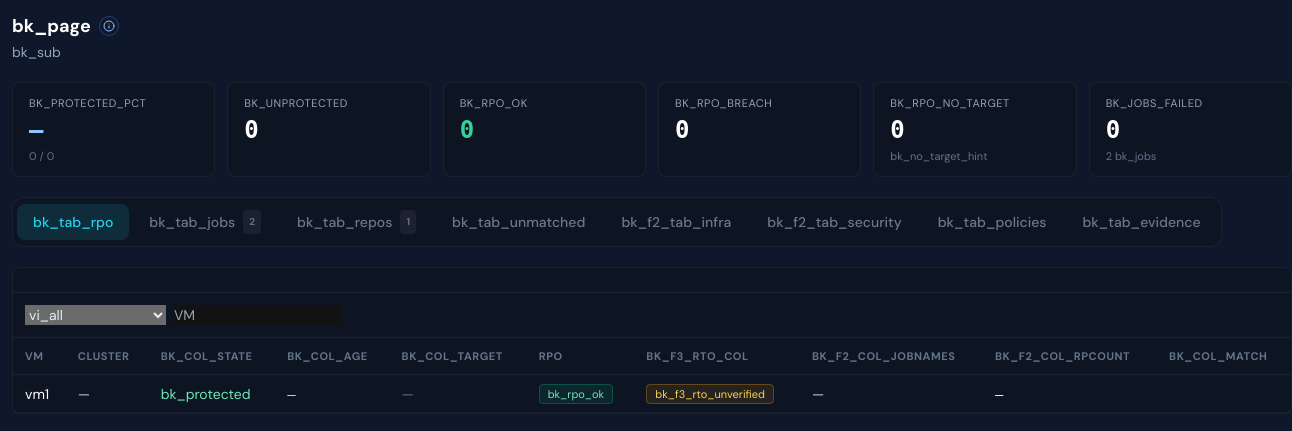
Test: F.2 Yedek sekmeleri › Repos tab: değişmezlik daima "ölçülemedi"
Click the button "bk_tab_repos 1" at (356, 222), box left=281, top=202, right=432, bottom=242
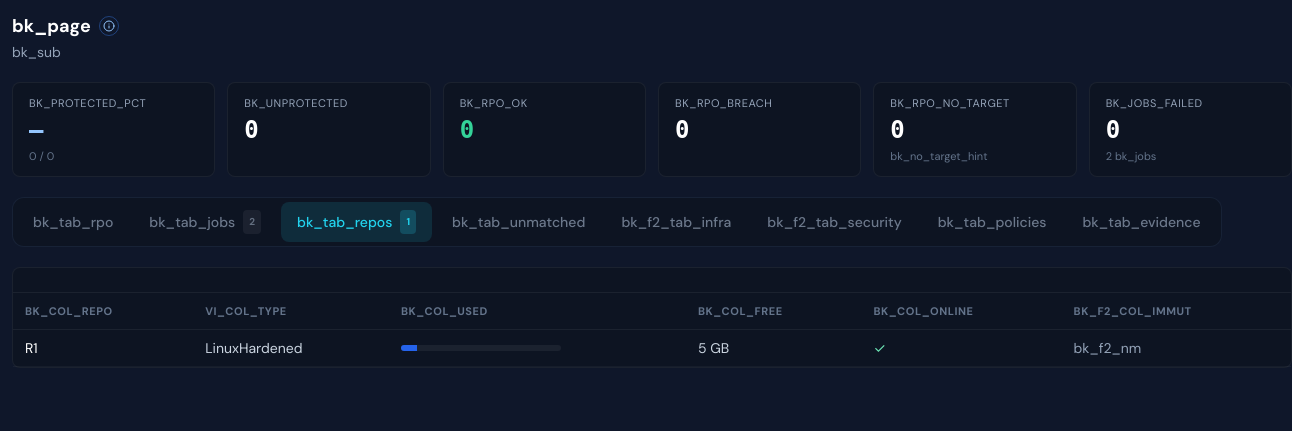
Now the text with test id "bk-immut-nm" reads "bk_f2_nm", box left=1074, top=339, right=1141, bottom=357
